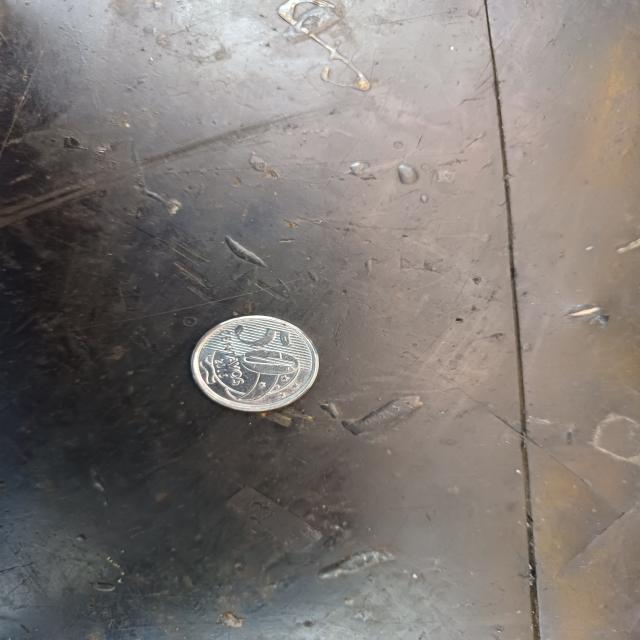50 cents: (188, 311, 322, 417)
